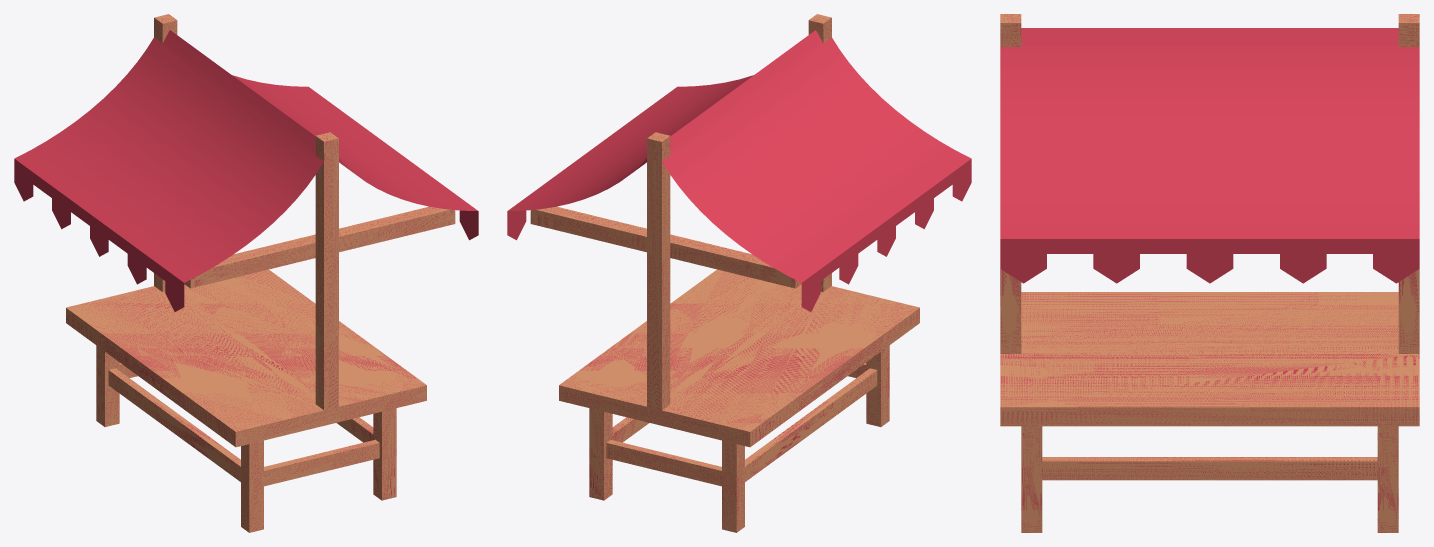
The model's file is stallRed.obj.
The picture shows the model from 3 angles, left to right: view 1: azimuth 30°, elevation 25°; view 2: azimuth 150°, elevation 25°; view 3: azimuth 270°, elevation 25°; orthographic projection. The views are drawn at different scales.
Parts seen in each view (by area): view 1: stallRed; view 2: stallRed; view 3: stallRed.
Part boxes in pixels (box(x1,y1,x2,y2)): stallRed: box(14, 14, 478, 532); stallRed: box(507, 14, 971, 532); stallRed: box(1000, 14, 1419, 532).
Size of the model in its own units: 1 by 1.24 by 1.
